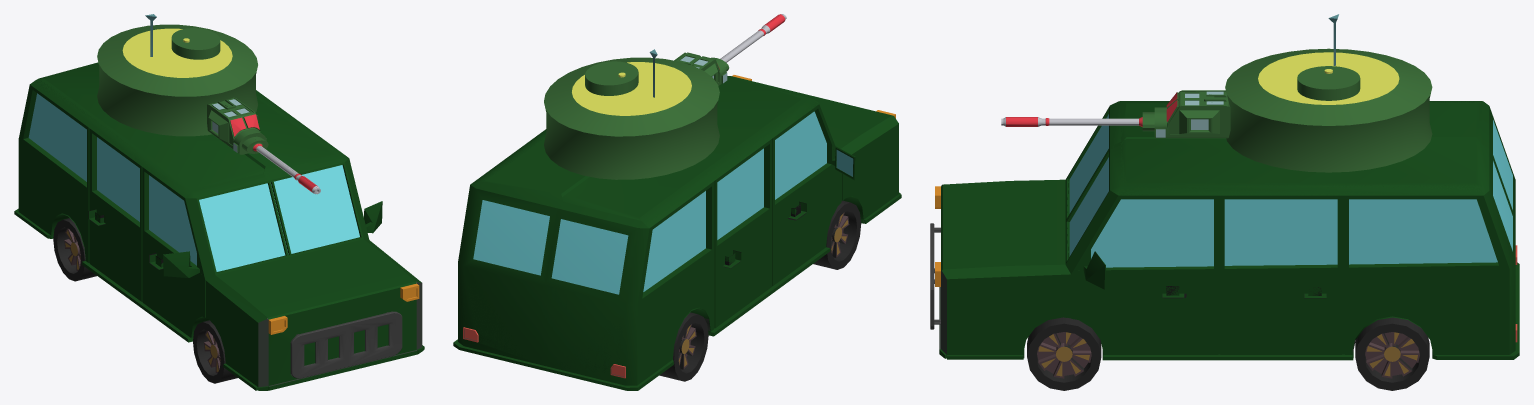
Rendered from tank.fbx.
The picture shows the model from 3 angles, left to right: view 1: azimuth 30°, elevation 25°; view 2: azimuth 150°, elevation 25°; view 3: azimuth 270°, elevation 25°; orthographic projection. The views are drawn at different scales.
Parts seen in each view (by area): view 1: car, head, Gune, frontWheels, backWheels; view 2: car, head, backWheels, frontWheels, Gune; view 3: car, head, Gune, backWheels, frontWheels.
Part boxes in pixels (bbox=[...]): car: bbox=[14, 62, 424, 390]; head: bbox=[97, 14, 257, 136]; Gune: bbox=[207, 97, 320, 194]; frontWheels: bbox=[193, 320, 237, 383]; backWheels: bbox=[53, 218, 96, 281]; car: bbox=[453, 75, 901, 390]; head: bbox=[544, 49, 719, 179]; backWheels: bbox=[659, 312, 708, 381]; frontWheels: bbox=[813, 200, 861, 269]; Gune: bbox=[674, 14, 786, 85]; car: bbox=[930, 101, 1519, 360]; head: bbox=[1225, 14, 1432, 172]; Gune: bbox=[1001, 90, 1230, 138]; backWheels: bbox=[1355, 317, 1429, 390]; frontWheels: bbox=[1027, 317, 1101, 390].
Size of the model in its own units: 488 by 568 by 967.
